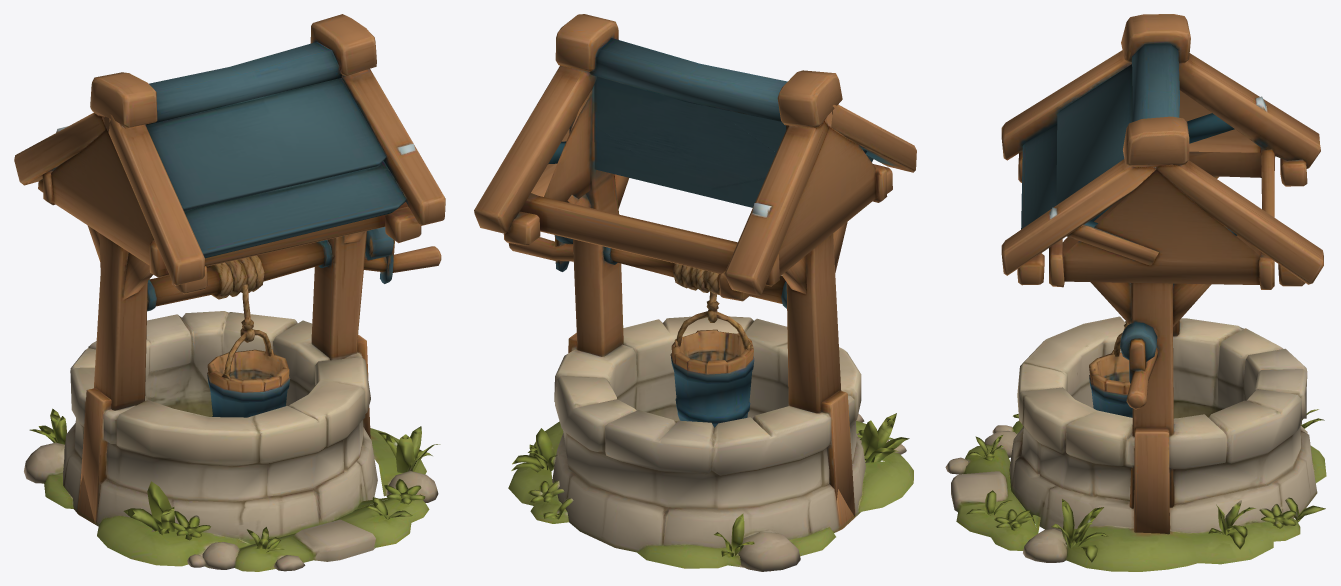
The model's file is stone-well.glb.
The picture shows the model from 3 angles, left to right: view 1: azimuth 30°, elevation 25°; view 2: azimuth 150°, elevation 25°; view 3: azimuth 270°, elevation 25°; orthographic projection. The views are drawn at different scales.
Visible parts, largest first — view 1: Stone Well; view 2: Stone Well; view 3: Stone Well.
Part boxes in pixels (x1=…): Stone Well: x1=14, y1=14, x2=445, y2=571; Stone Well: x1=474, y1=14, x2=916, y2=571; Stone Well: x1=945, y1=14, x2=1326, y2=571.
Bounding box in the file's own units: 0.8691 × 0.998 × 0.8184.
Materials: 1 (1 with a texture image).
